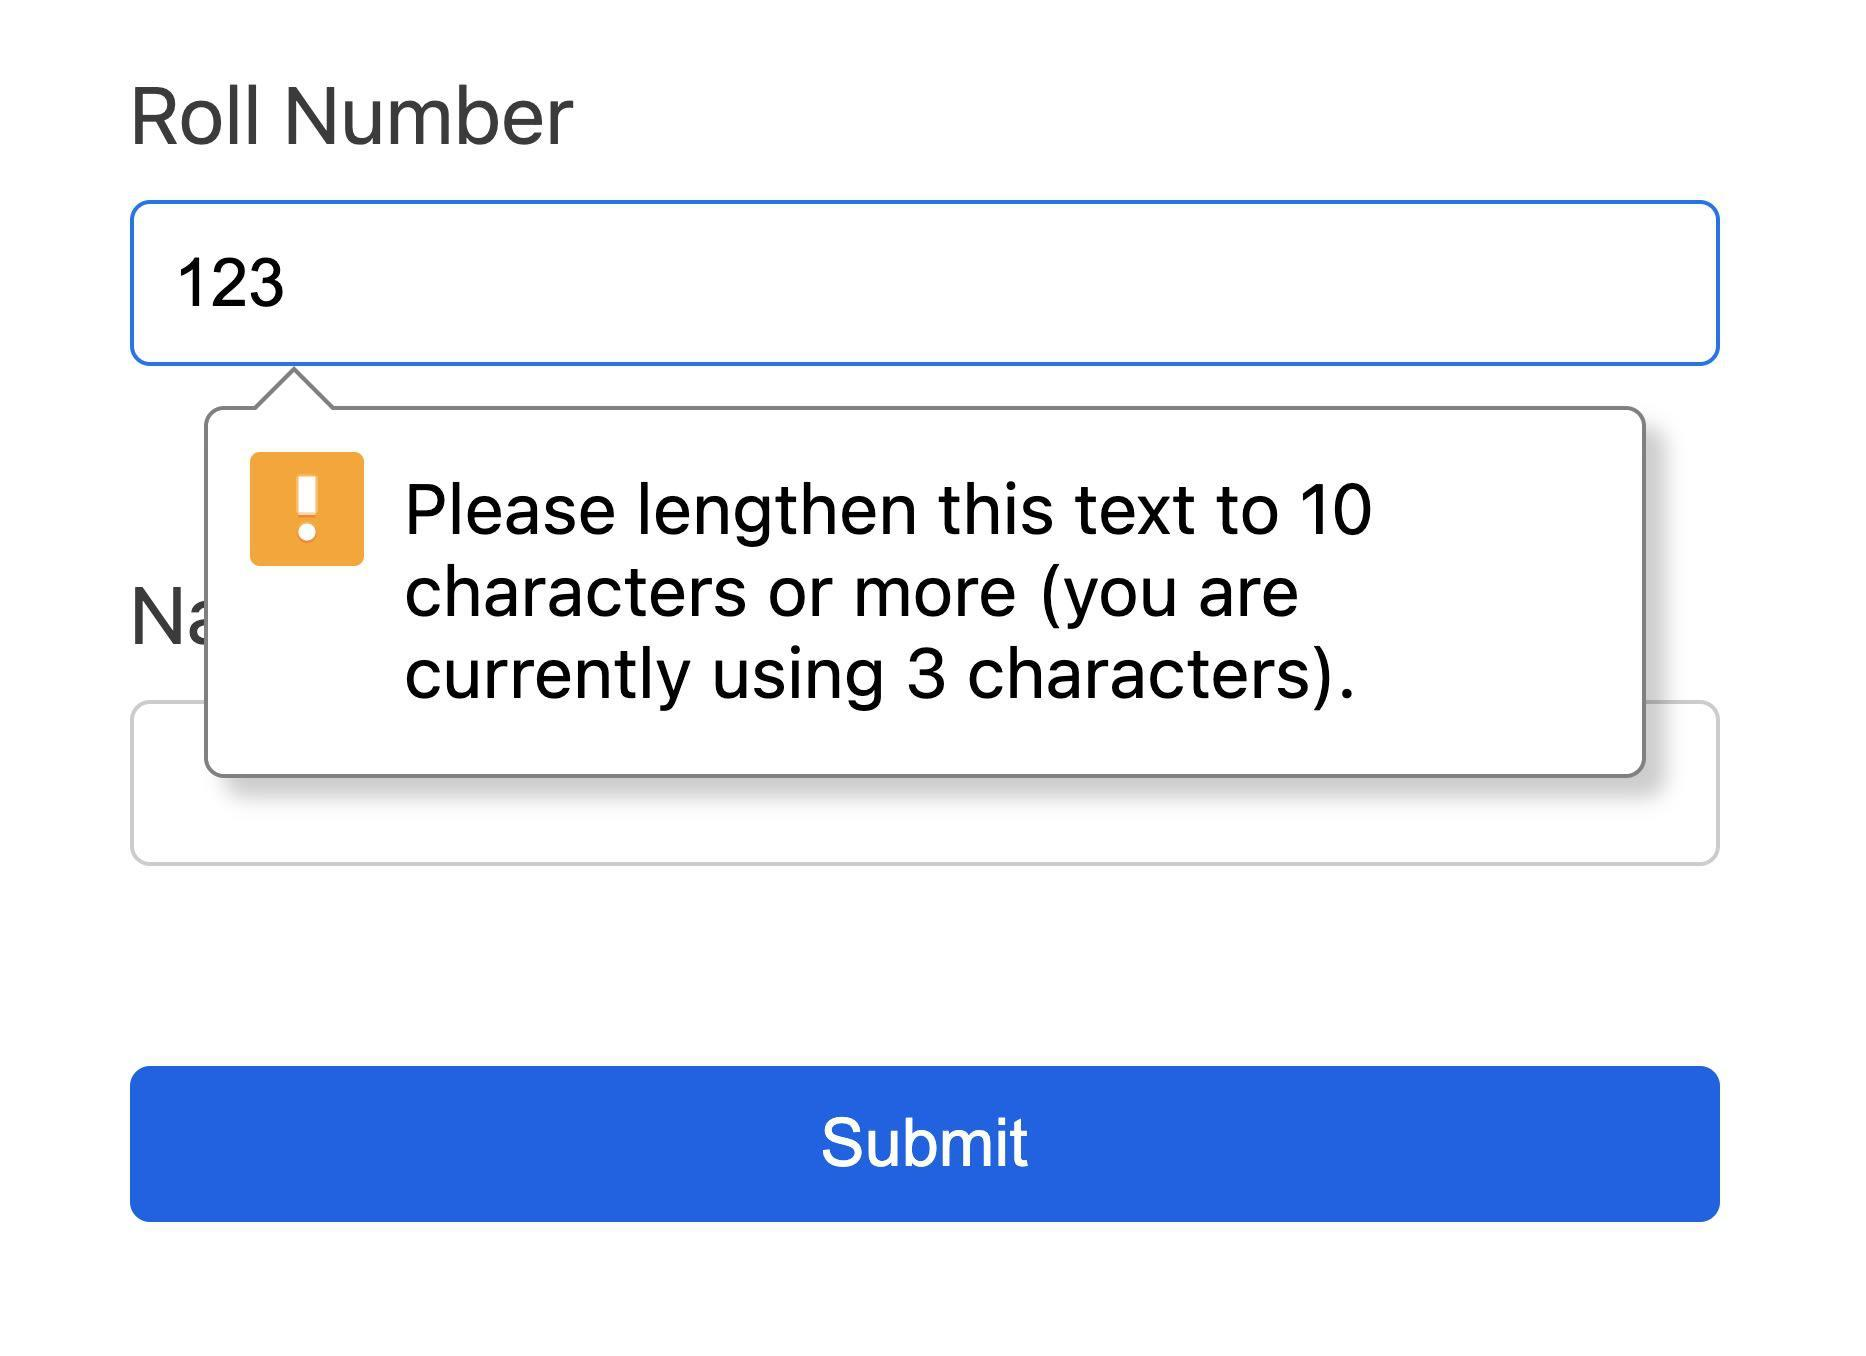button: (130, 1068, 1725, 1226)
icon: (246, 453, 367, 569)
input: (129, 201, 1723, 367)
label: (129, 75, 581, 172)
